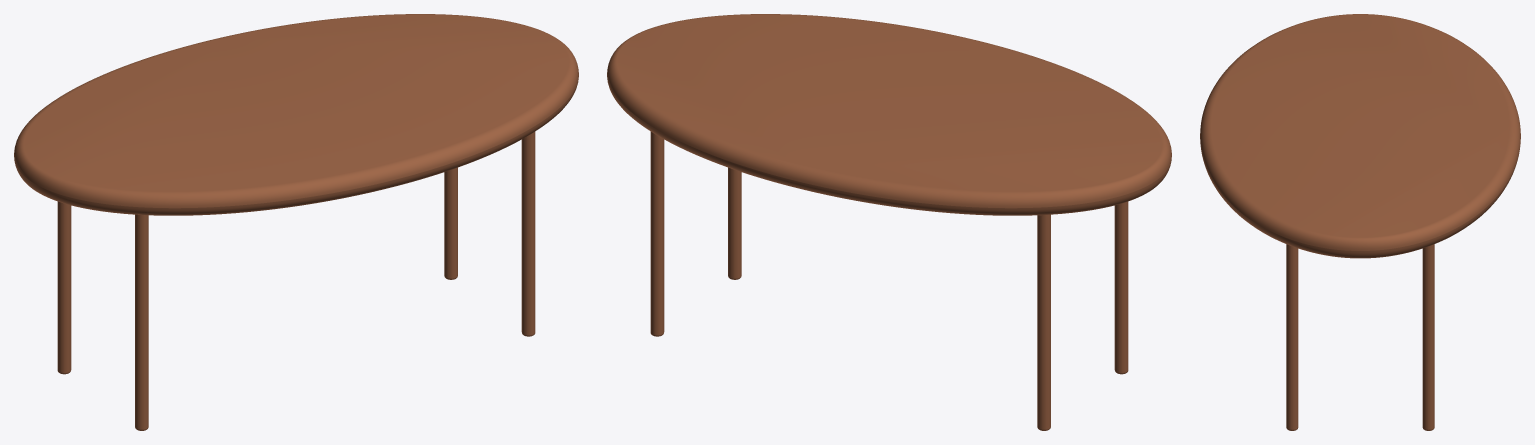
File: Table.fbx
The picture shows the model from 3 angles, left to right: view 1: azimuth 30°, elevation 25°; view 2: azimuth 150°, elevation 25°; view 3: azimuth 270°, elevation 25°; orthographic projection. The views are drawn at different scales.
Parts seen in each view (by area): view 1: Oval_Tabletop, Front Left Leg, Front Right Leg, Back Left Leg, Back Right Leg; view 2: Oval_Tabletop, Back Left Leg, Back Right Leg, Front Left Leg, Front Right Leg; view 3: Oval_Tabletop, Back Right Leg, Front Right Leg.
Part boxes in pixels (bbox=[...]): Oval_Tabletop: bbox=[14, 14, 578, 215]; Front Left Leg: bbox=[135, 214, 148, 430]; Front Right Leg: bbox=[521, 131, 535, 336]; Back Left Leg: bbox=[57, 201, 71, 374]; Back Right Leg: bbox=[444, 167, 457, 279]; Oval_Tabletop: bbox=[607, 14, 1171, 215]; Back Left Leg: bbox=[1037, 214, 1050, 430]; Back Right Leg: bbox=[650, 131, 664, 336]; Front Left Leg: bbox=[1114, 201, 1128, 374]; Front Right Leg: bbox=[728, 167, 741, 279]; Oval_Tabletop: bbox=[1200, 14, 1520, 258]; Back Right Leg: bbox=[1422, 244, 1434, 430]; Front Right Leg: bbox=[1286, 244, 1298, 430].
Size of the model in its own units: 677 by 303 by 400.
